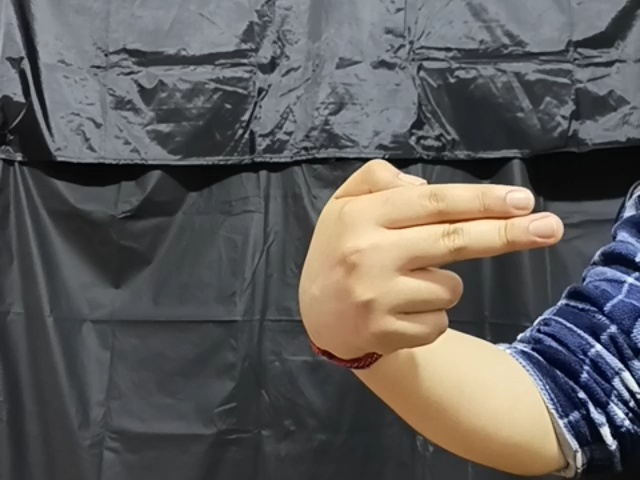H: (294, 157, 565, 350)
